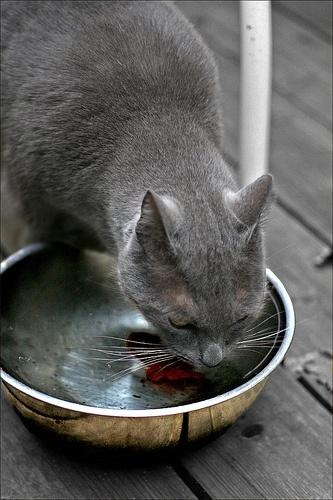cat: (3, 3, 319, 375)
